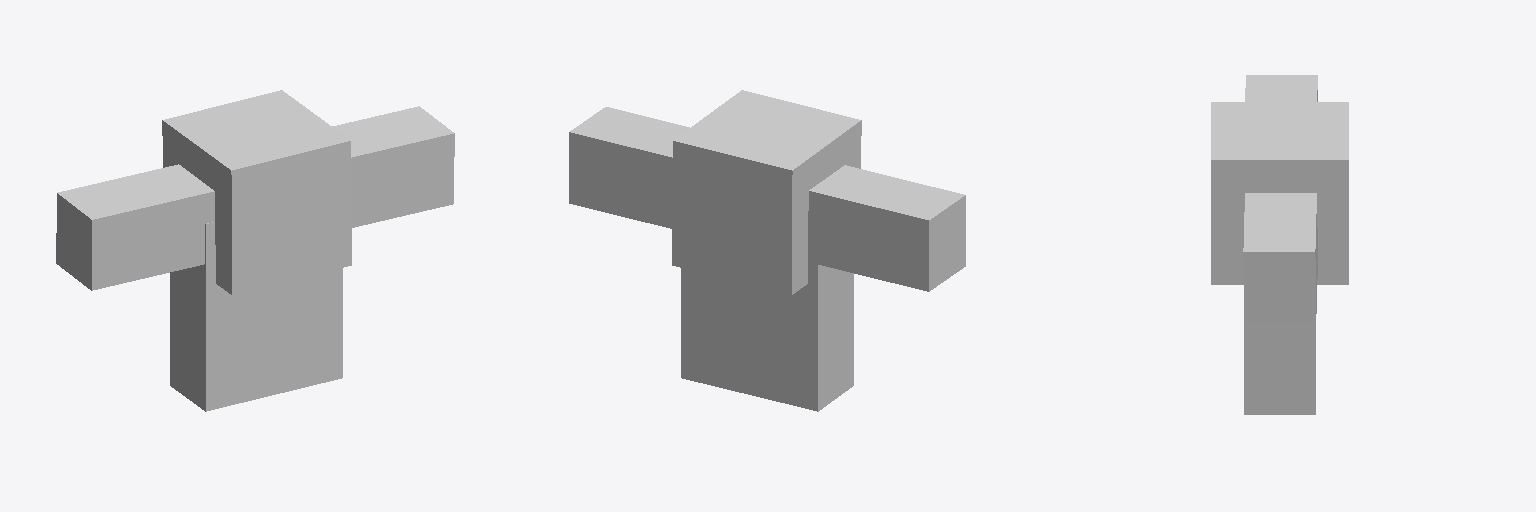
The model's file is separa9.obj.
3 renders of one model, left to right at view 1: azimuth 30°, elevation 25°; view 2: azimuth 150°, elevation 25°; view 3: azimuth 270°, elevation 25°, orthographic.
Visible parts, largest first — view 1: separa6, separa6.002, separa6.003, separa6.001; view 2: separa6, separa6.003, separa6.002, separa6.001, separa6.004, separa6.005; view 3: separa6, separa6.001, separa6.002, separa6.003.
Part boxes in pixels (x1,y1,x2,y2): separa6: (162,90,351,295); separa6.002: (170,222,342,411); separa6.003: (56,164,214,290); separa6.001: (332,106,454,227); separa6: (672,90,861,295); separa6.003: (808,165,965,291); separa6.002: (681,262,853,411); separa6.001: (569,107,689,228); separa6.004: (715,277,782,402); separa6.005: (715,277,782,401); separa6: (1211,102,1348,284); separa6.001: (1243,193,1317,322); separa6.002: (1244,323,1315,414); separa6.003: (1245,75,1317,101).
Size of the model in its own units: 6.06 by 4.02 by 2.